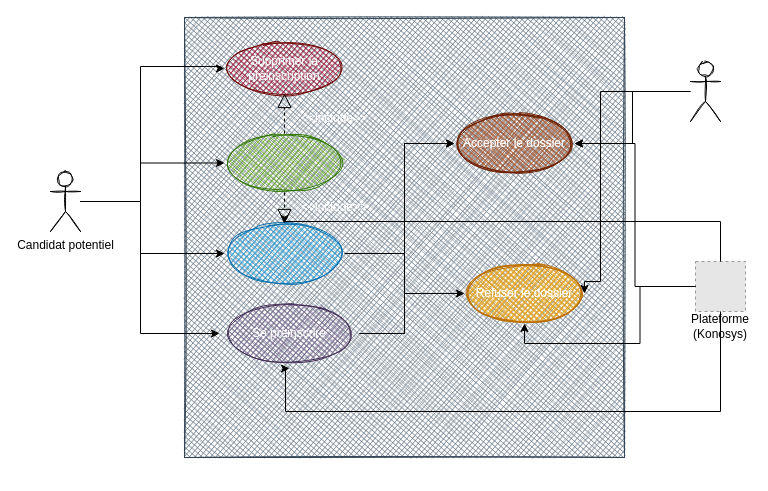
The diagram is 768 pixels wide and 491 high, and some of its shapes have lost their labels. Grey dashed boxes stand in for pictures. The centre of each missing label's shape, as x and y in pixels:
"Consulter la preinscription" belongs at pixel 284 162.
"Gestionnaire des stagiaires" belongs at pixel 705 91.
"Modifier la preinscription" belongs at pixel 284 253.
